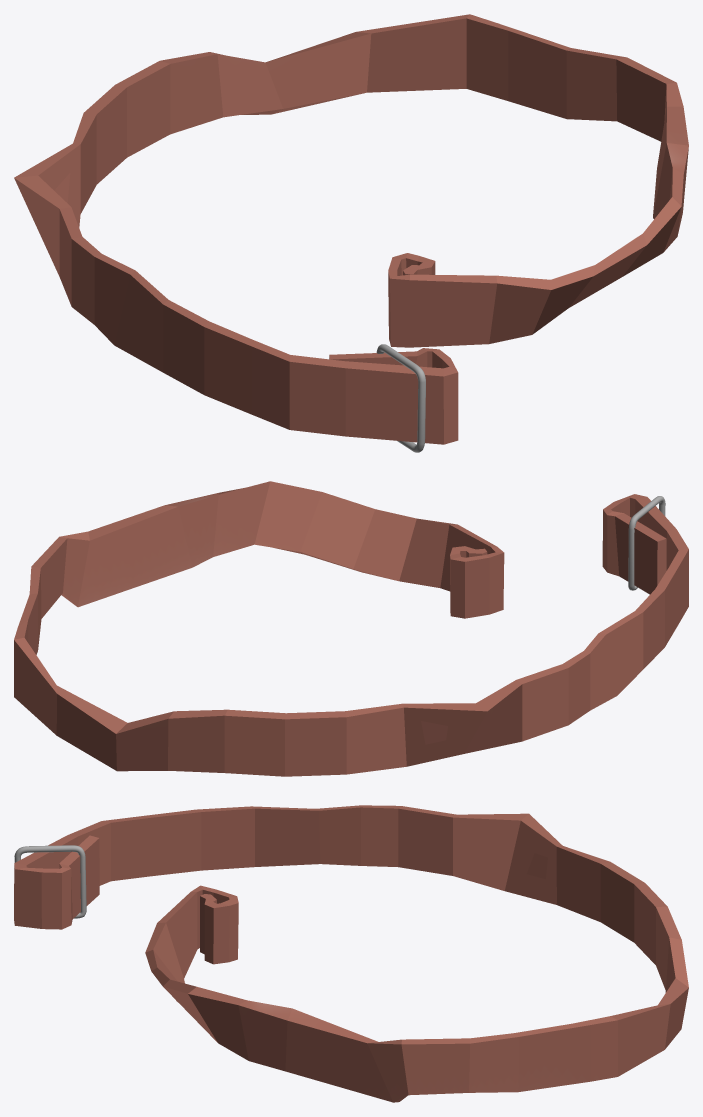
File: OldCollar.fbx
3 renders of one model, top to bottom at view 1: azimuth 30°, elevation 25°; view 2: azimuth 150°, elevation 25°; view 3: azimuth 270°, elevation 25°, orthographic. The views are drawn at different scales.
Visible parts, largest first — view 1: OldCollar; view 2: OldCollar; view 3: OldCollar.
Part boxes in pixels (x1,y1,x2,y2): OldCollar: (14, 14, 688, 452); OldCollar: (14, 481, 688, 776); OldCollar: (14, 805, 688, 1102).
Size of the model in its own units: 722 by 117 by 827.
